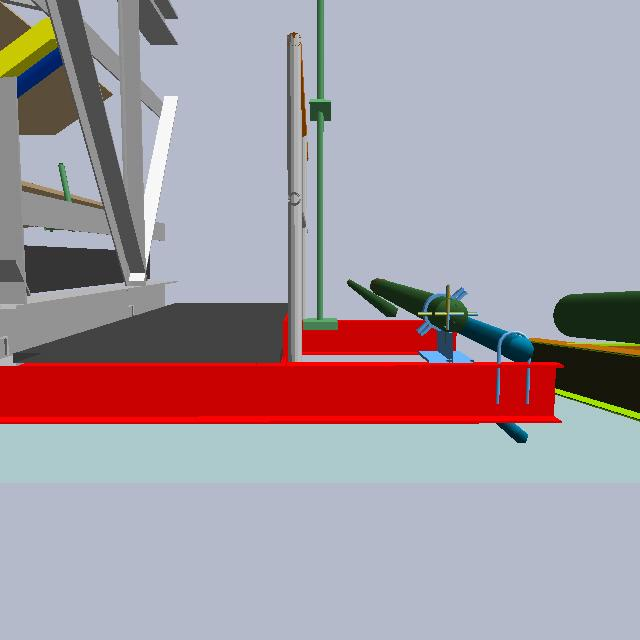Poste: (310, 1, 325, 325)
